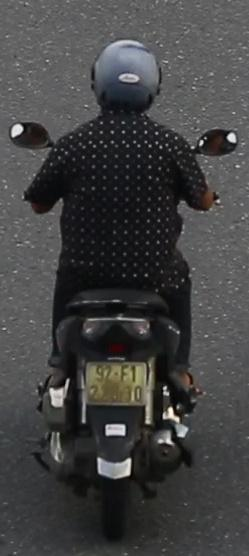LP: (82, 355, 151, 409)
helmet: (88, 34, 166, 125)
